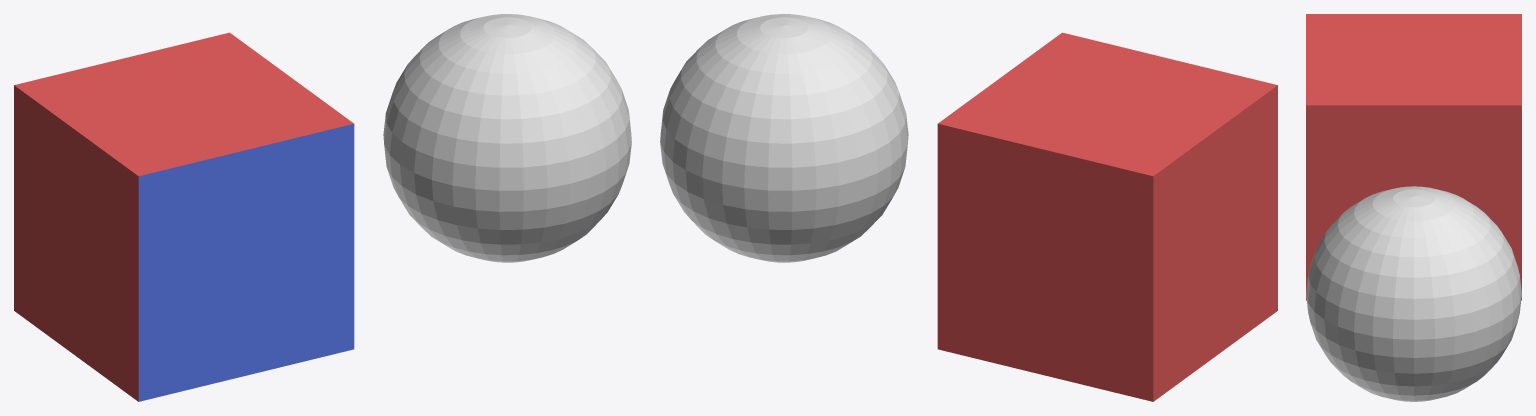
Rendered from wuerfel-normalen-material.glb.
The picture shows the model from 3 angles, left to right: view 1: azimuth 30°, elevation 25°; view 2: azimuth 150°, elevation 25°; view 3: azimuth 270°, elevation 25°; orthographic projection. The views are drawn at different scales.
Visible parts, largest first — view 1: Würfel zwei Materialien-Rot, Würfel zwei Materialien-Blau, Kugel ohne Material; view 2: Würfel zwei Materialien-Rot, Kugel ohne Material; view 3: Würfel zwei Materialien-Rot, Kugel ohne Material.
Boxes of the visible parts, x1,y1,x2,y2 form: Würfel zwei Materialien-Rot: (14,32,353,401); Würfel zwei Materialien-Blau: (138,124,354,401); Kugel ohne Material: (383,14,631,262); Würfel zwei Materialien-Rot: (937,32,1277,401); Kugel ohne Material: (660,14,908,262); Würfel zwei Materialien-Rot: (1306,14,1521,300); Kugel ohne Material: (1306,186,1521,401).
Bounding box in the file's own units: 5 × 2 × 2.
